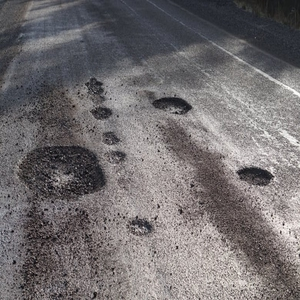pothole: (16, 144, 108, 198), (236, 166, 275, 188), (151, 97, 193, 115), (86, 78, 105, 104), (128, 217, 151, 234), (94, 107, 111, 121)
